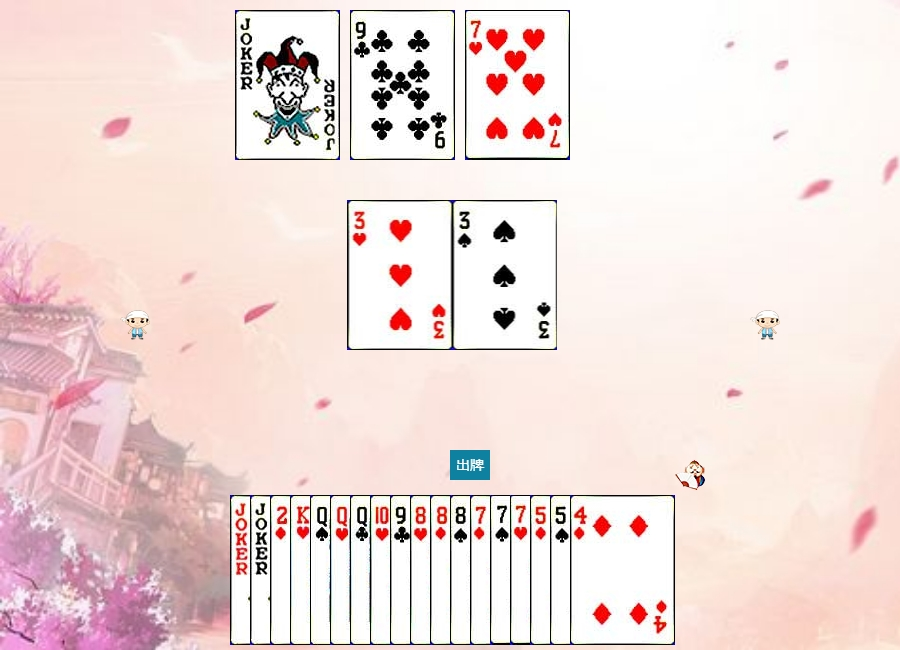10~3: (370, 495, 475, 645)
12~2: (350, 495, 455, 645)
12~3: (330, 495, 435, 645)
12~4: (310, 495, 415, 645)
13~3: (290, 495, 395, 645)
15~1: (270, 495, 375, 645)
17~3: (235, 10, 340, 160), (250, 495, 355, 645)
18~4: (230, 495, 335, 645)
3~3: (348, 200, 453, 350)
3~4: (453, 200, 558, 350)
4~1: (570, 495, 675, 645)
5~1: (530, 495, 635, 645)
5~4: (550, 495, 655, 645)
7~1: (470, 495, 575, 645)
7~3: (465, 10, 570, 160), (510, 495, 615, 645)
7~4: (490, 495, 595, 645)
8~1: (430, 495, 535, 645)
8~3: (410, 495, 515, 645)
8~4: (450, 495, 555, 645)
9~2: (350, 10, 455, 160), (390, 495, 495, 645)
